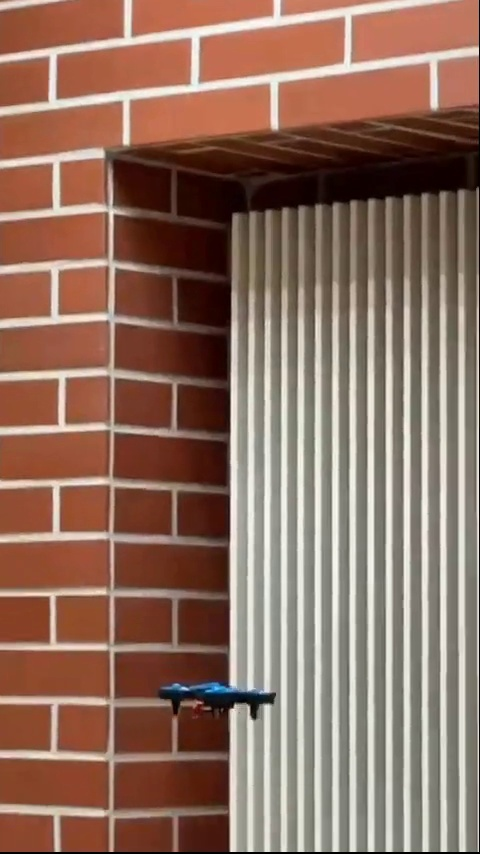drone: (155, 670, 276, 728)
